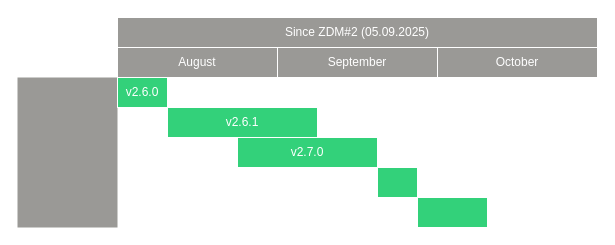
Some shapes in this 615 by 245 pixel diagram are drawn without their labels. The box of each missing label's shape, as (x1, y1, x2, y2) in pixels:
DTS releases: (17, 77, 117, 227)
v2.7.1: (376, 166, 418, 198)
v2.7.2-rc1: (416, 196, 488, 228)
